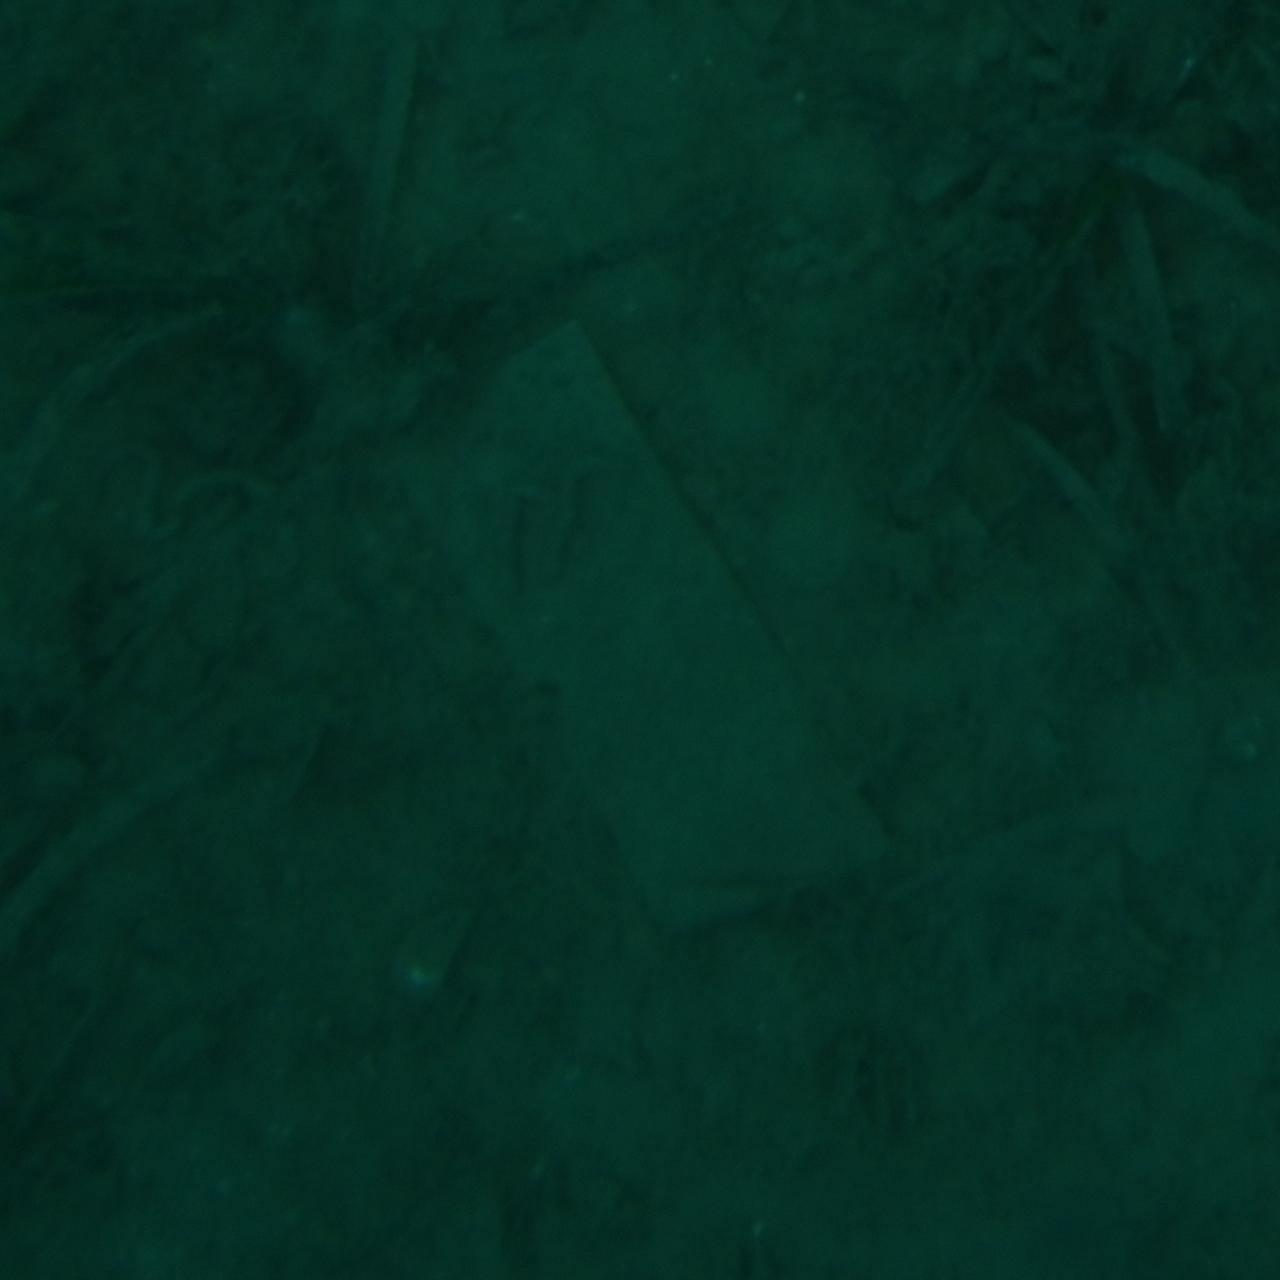Rifiuto: (377, 313, 903, 967)
